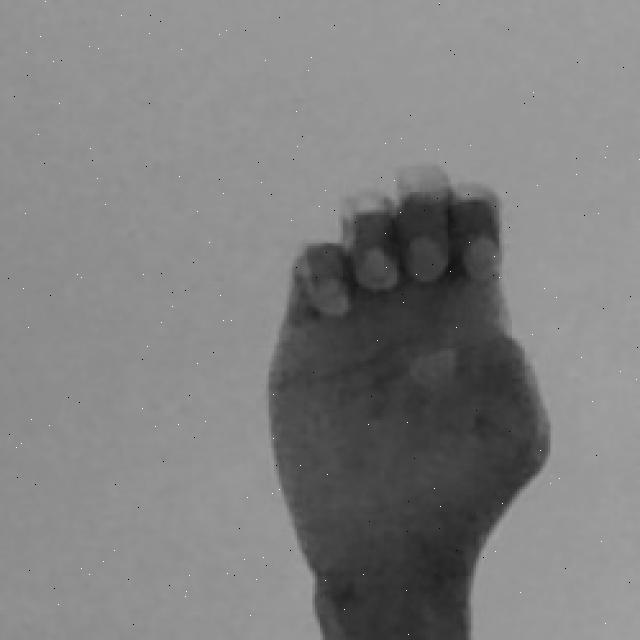E: (262, 156, 553, 640)
